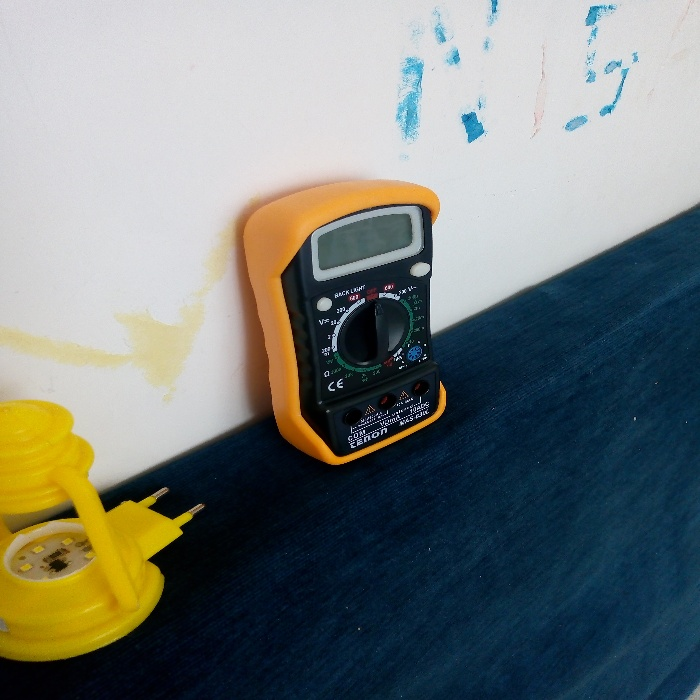multimetre: (225, 138, 468, 469)
